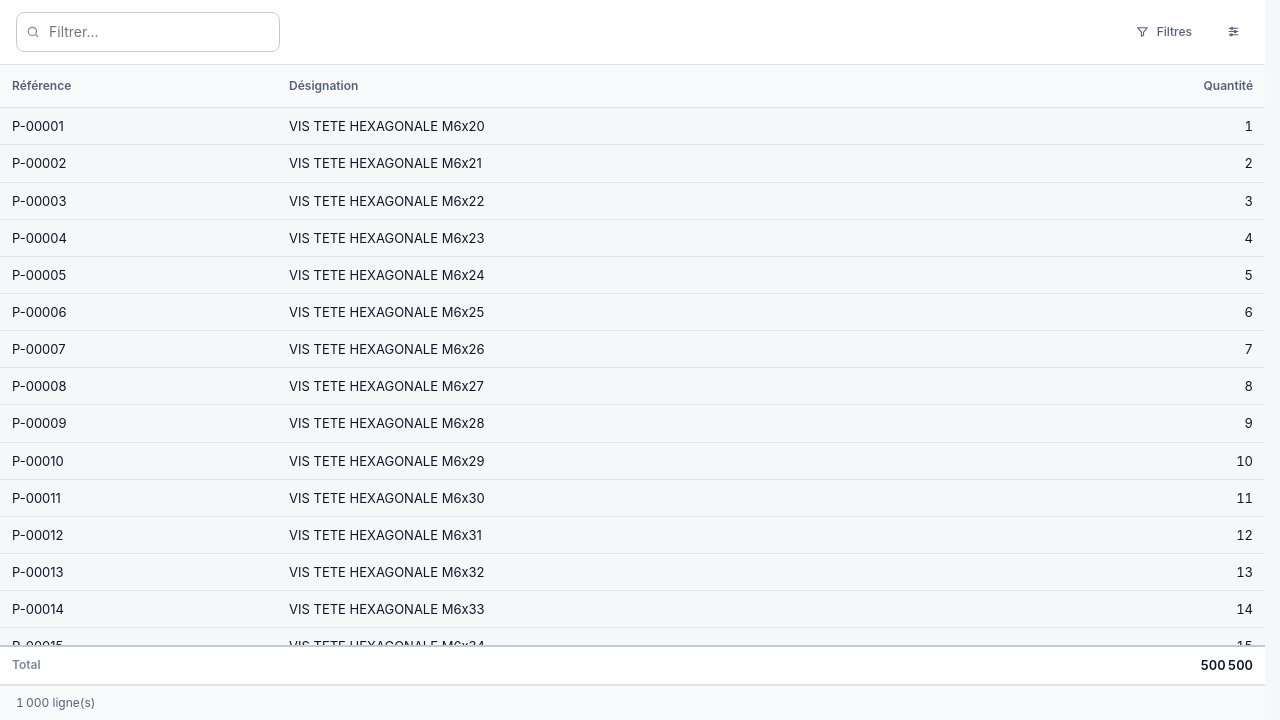
Test case: la recherche porte sur toutes les lignes › trouve une ligne qui n’était pas rendue
Type "P-00997" into the search field at {"x": 148, "y": 32}, box x1=16 y1=12 x2=280 y2=52
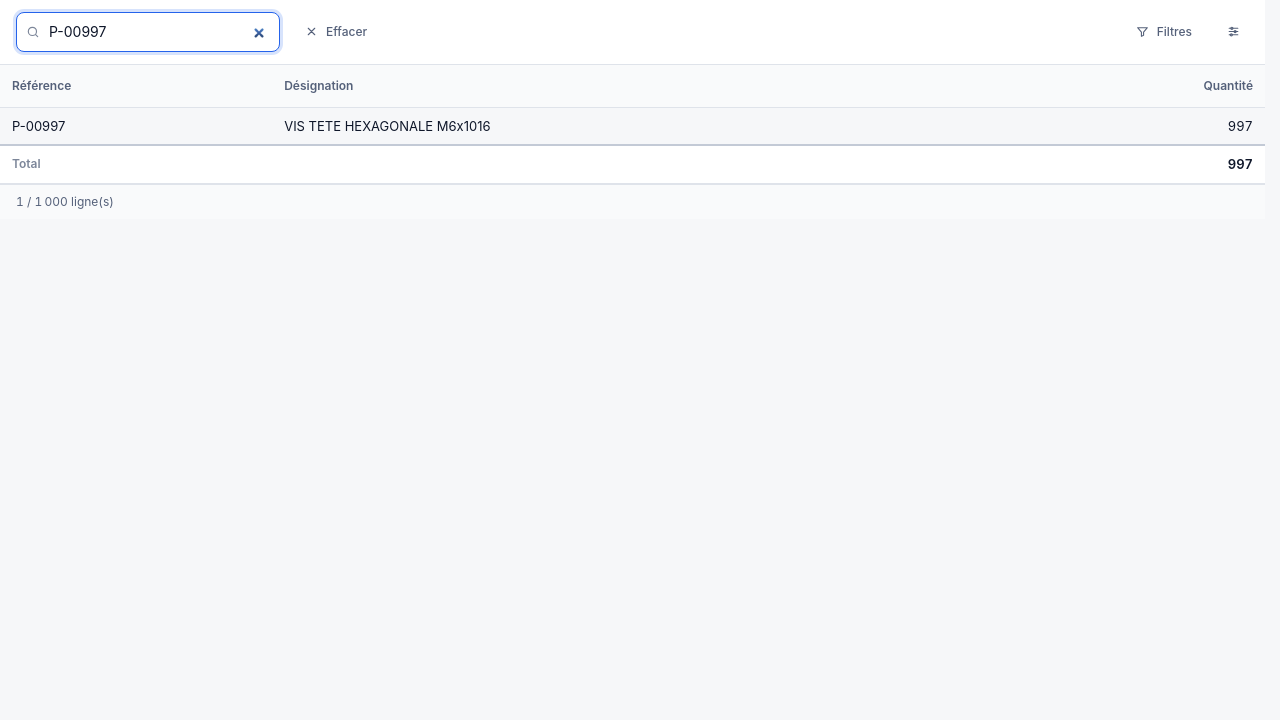
Result: the text "P-00997" is shown at x1=0 y1=108 x2=272 y2=144
